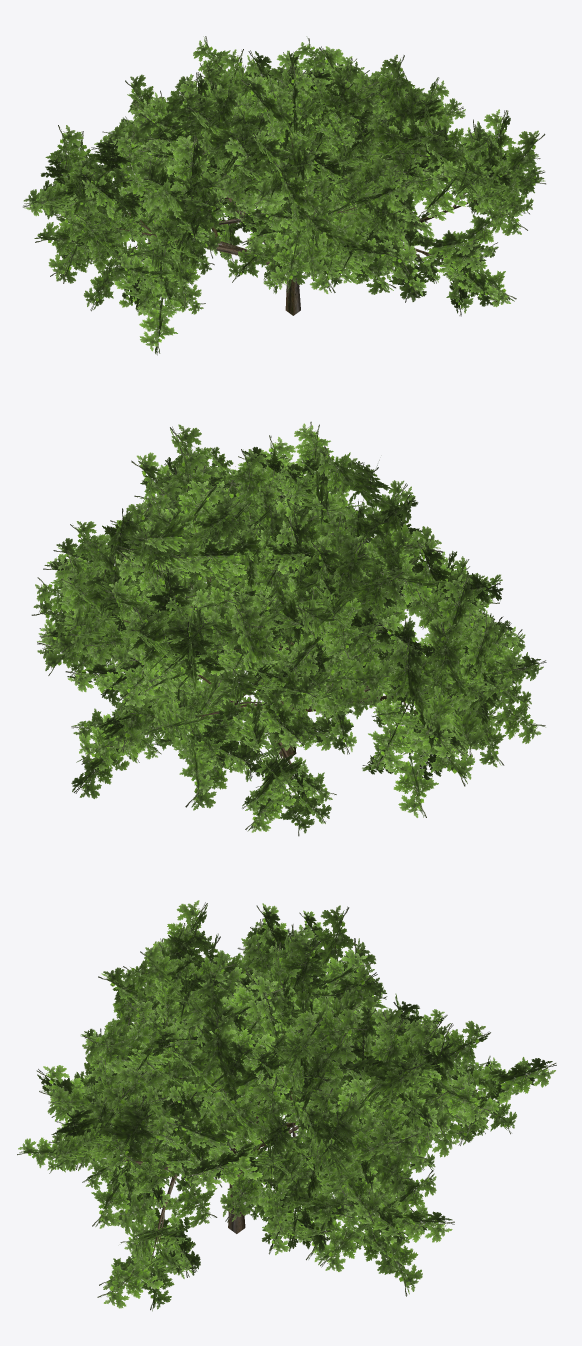
The model's file is bush_3.glb.
3 views of the same model, one above another, from view 1: azimuth 30°, elevation 25°; view 2: azimuth 150°, elevation 25°; view 3: azimuth 270°, elevation 25° (orthographic). The views are drawn at different scales.
Parts seen in each view (by area): view 1: Leaves, Branches; view 2: Leaves, Branches; view 3: Leaves, Branches.
Part boxes in pixels (x1,y1,x2,y2): Leaves: (23, 36, 545, 355); Branches: (68, 72, 502, 315); Leaves: (31, 421, 546, 836); Branches: (116, 466, 449, 799); Leaves: (17, 900, 556, 1311); Branches: (90, 985, 485, 1263).
Bounding box in the file's own units: 2.48 × 1.6 × 2.39.
Materials: 2 (2 with a texture image).
